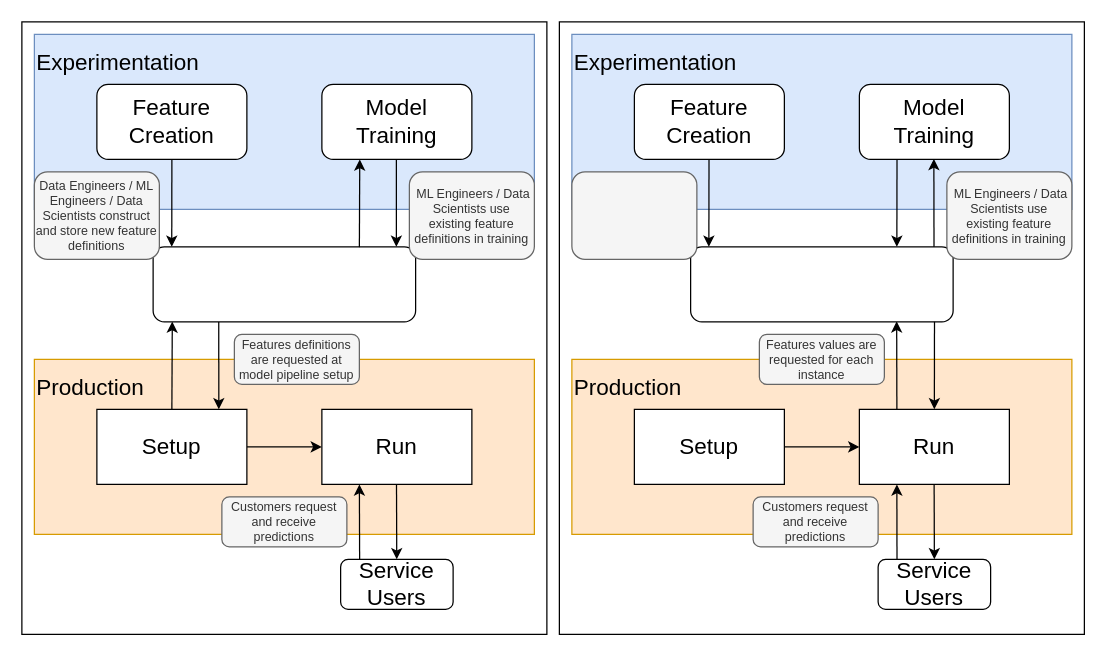
The diagram is 1106 pixels wide and 656 high, and some of its shapes have lost their labels. Each missing label, with the box of its shape:
Data Engineers / ML Engineers / Data Scientists construct and store new features: (571, 171, 697, 259)
Fête: (152, 246, 416, 322)
Traditional Feature Store: (689, 246, 953, 322)
